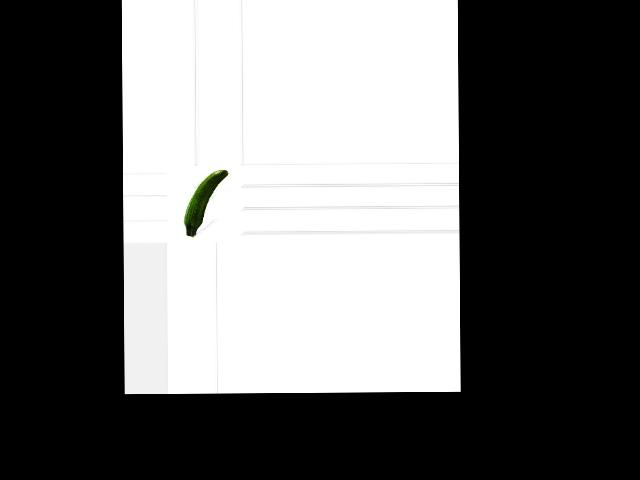cucumber: (184, 170, 229, 237)
